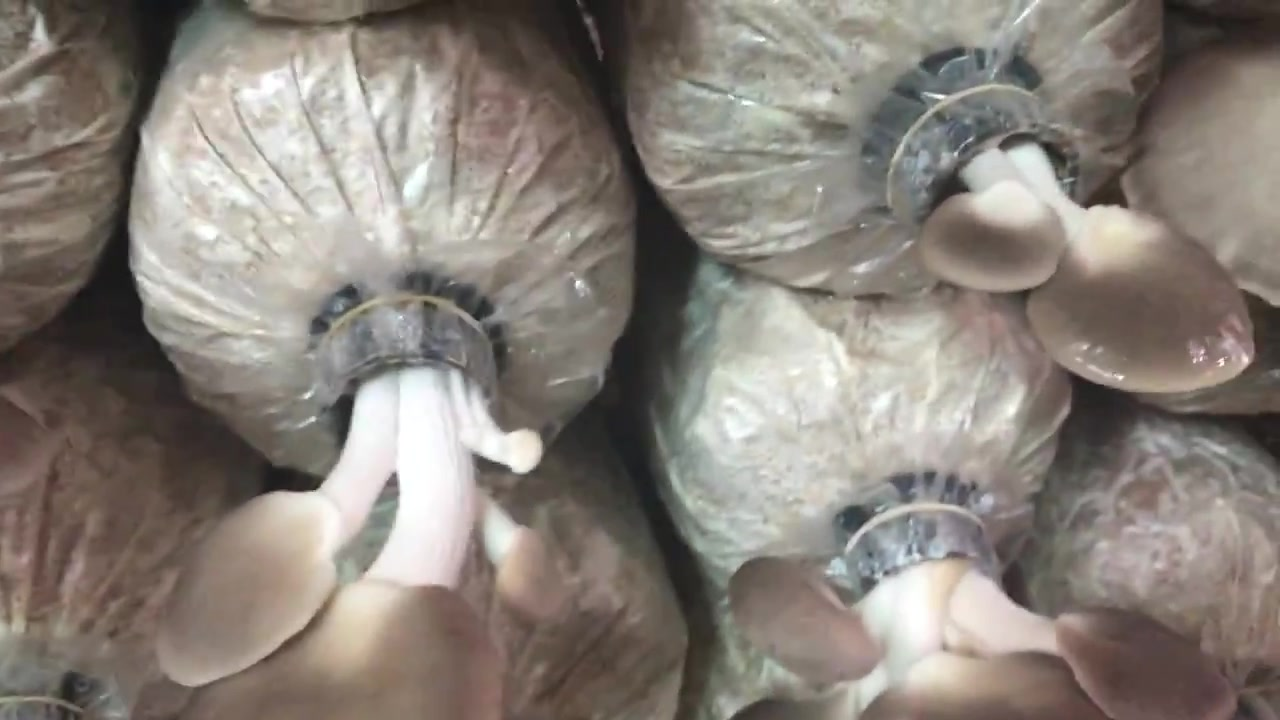nam: (163, 280, 571, 720), (909, 73, 1259, 402), (724, 510, 1239, 720)
